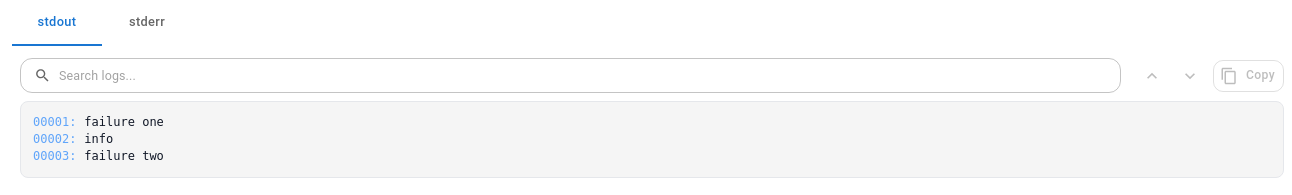
Test: ProtocolLogsPanel › navigates between matches from the search input
The width and height of the screenshot is (1292, 195).
Type "failure" into the field labelled "Search logs...".
click(590, 76); type("failure")  # box [59,58,1121,93]
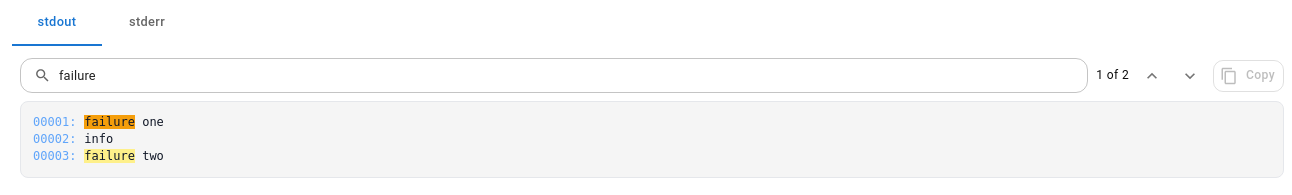
Press Enter in the field named "Search logs", box [59,58,1088,93]
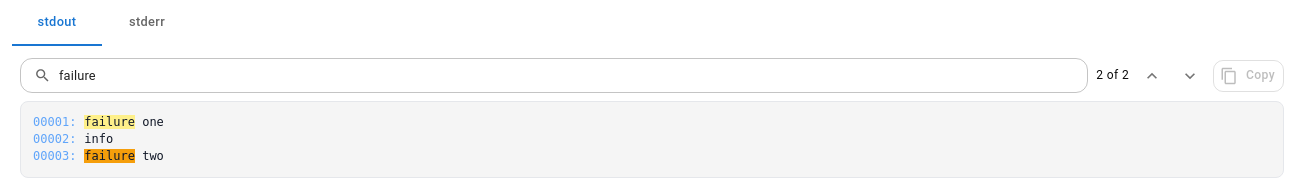
Expected: the text "2 of 2" is shown, [1096,66,1129,86]
Press Enter in the field named "Search logs", box [59,58,1088,93]
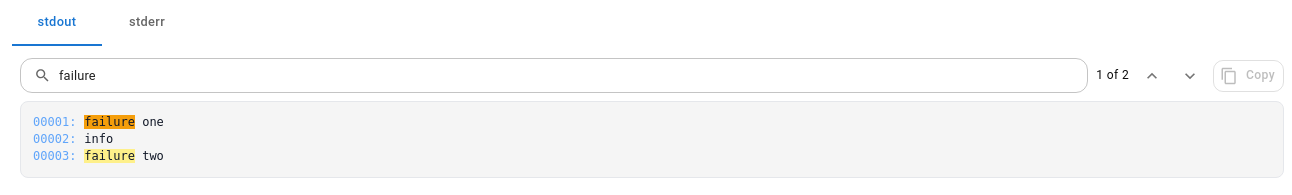
Expected: the text "1 of 2" is shown, [1096,66,1129,86]
